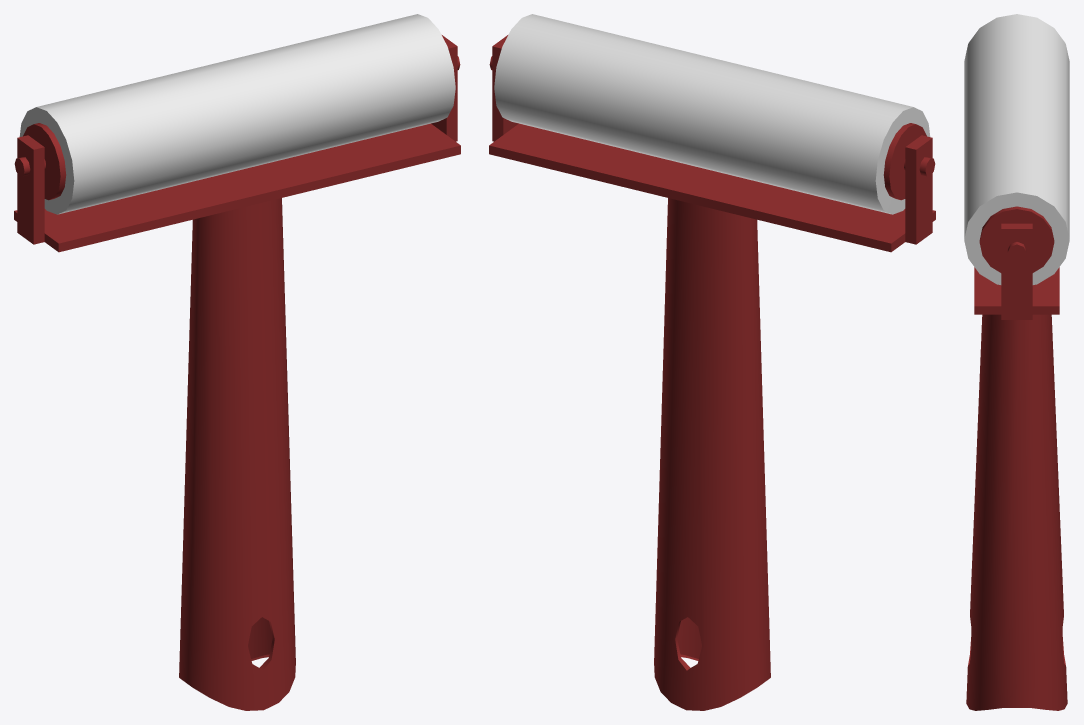
The model's file is rolinho.fbx.
The picture shows the model from 3 angles, left to right: view 1: azimuth 30°, elevation 25°; view 2: azimuth 150°, elevation 25°; view 3: azimuth 270°, elevation 25°; orthographic projection. The views are drawn at different scales.
Visible parts, largest first — view 1: Rolinho, RolinhoBorracha.001; view 2: Rolinho, RolinhoBorracha.001; view 3: Rolinho, RolinhoBorracha.001.
Boxes of the visible parts, x1,y1,x2,y2 form: Rolinho: (14, 35, 460, 710); RolinhoBorracha.001: (19, 14, 455, 214); Rolinho: (489, 35, 935, 710); RolinhoBorracha.001: (494, 14, 930, 214); Rolinho: (966, 206, 1067, 710); RolinhoBorracha.001: (964, 14, 1069, 284).
Bounding box in the file's own units: 22.85 × 31.38 × 5.
